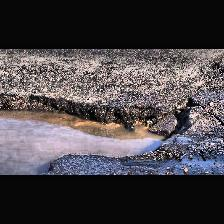pothole: (0, 92, 196, 174)
